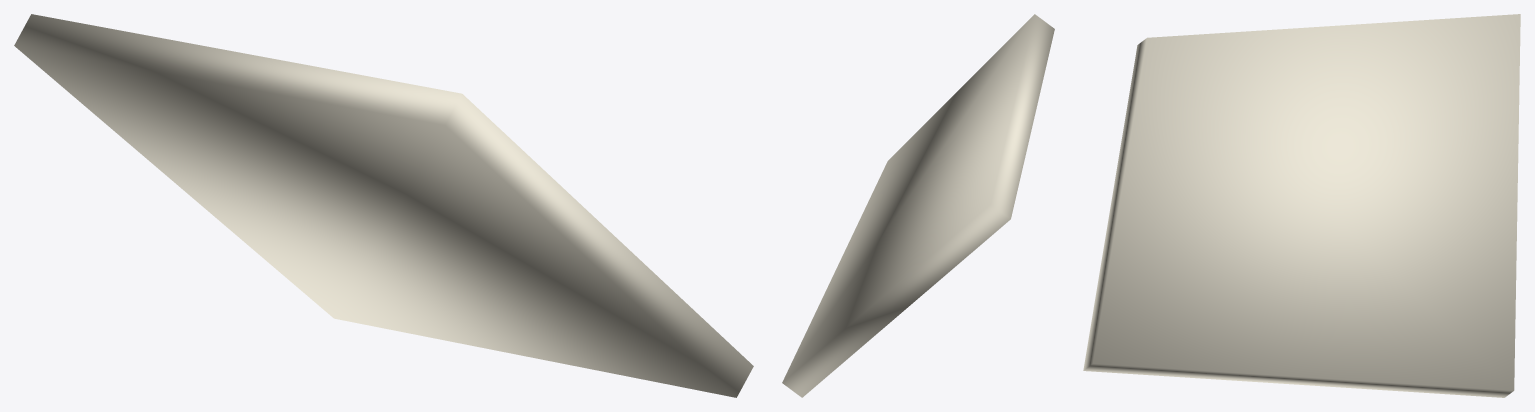
3 renders of one model, left to right at view 1: azimuth 30°, elevation 25°; view 2: azimuth 150°, elevation 25°; view 3: azimuth 270°, elevation 25°, orthographic. The views are drawn at different scales.
Parts seen in each view (by area): view 1: ZA_fdb2dd86d913fa2e; view 2: ZA_fdb2dd86d913fa2e; view 3: ZA_fdb2dd86d913fa2e.
Part boxes in pixels (bbox=[...]): ZA_fdb2dd86d913fa2e: bbox=[14, 14, 753, 397]; ZA_fdb2dd86d913fa2e: bbox=[782, 14, 1054, 397]; ZA_fdb2dd86d913fa2e: bbox=[1083, 14, 1520, 397].
Size of the model in its own units: 0.00697 by 0.00613 by 0.0076.
